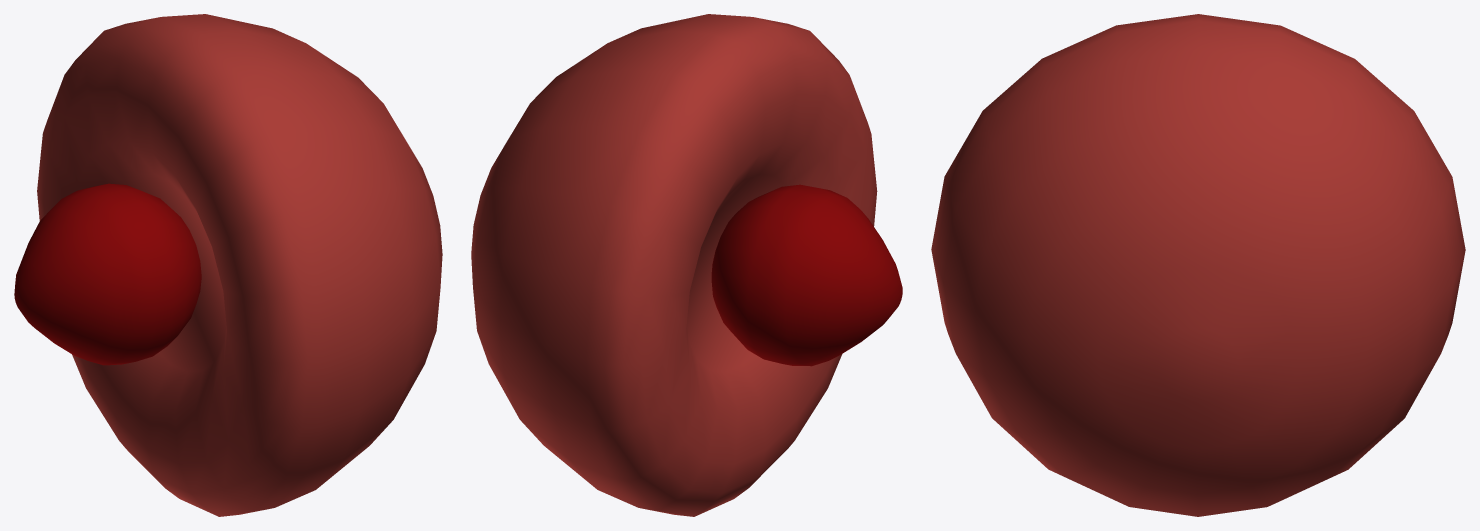
Rendered from Pie_02.gltf.
3 renders of one model, left to right at view 1: azimuth 30°, elevation 25°; view 2: azimuth 150°, elevation 25°; view 3: azimuth 270°, elevation 25°, orthographic. The views are drawn at different scales.
Parts seen in each view (by area): view 1: Orbital55, Anti__Node_199; view 2: Orbital55, Anti__Node_199; view 3: Orbital55.
Part boxes in pixels (<box>): Orbital55: <box>37,14,442,516</box>; Anti__Node_199: <box>14,183,201,365</box>; Orbital55: <box>471,14,877,516</box>; Anti__Node_199: <box>711,184,902,366</box>; Orbital55: <box>931,14,1465,516</box>.
Bounding box in the file's own units: 0.1865 × 0.2093 × 0.2119.
2 materials, 1 textured.
